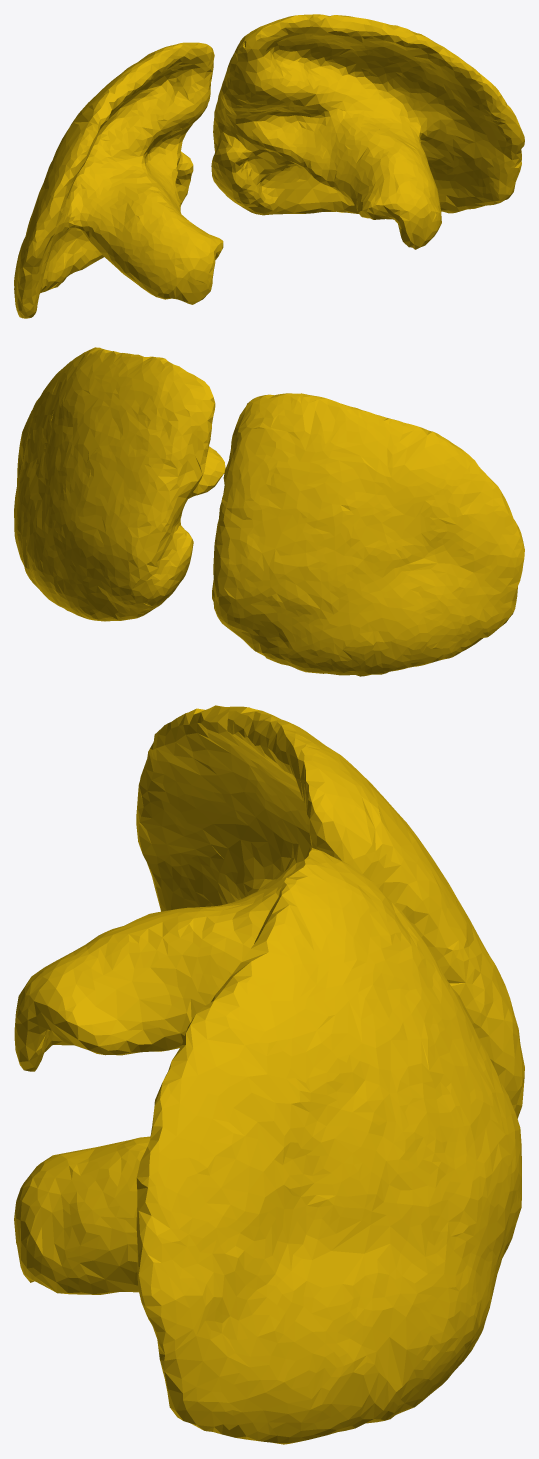
The model's file is 236-V1-visual area 1 (primary visual cortex)-('1.0000', '0.8039', '0.0000').obj.
The picture shows the model from 3 angles, top to bottom: view 1: azimuth 30°, elevation 25°; view 2: azimuth 150°, elevation 25°; view 3: azimuth 270°, elevation 25°; orthographic projection. The views are drawn at different scales.
Size of the model in its own units: 339 by 155 by 157.
